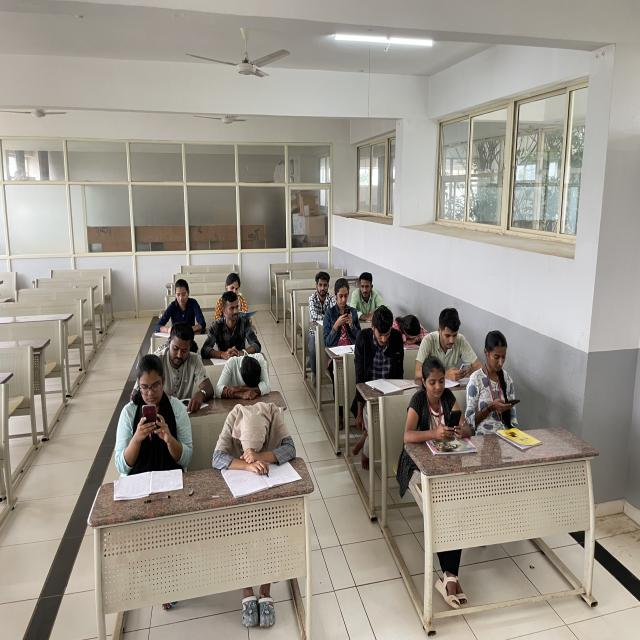Reading: (357, 304, 406, 388), (215, 269, 258, 315)
Sleeping: (212, 399, 303, 485), (217, 344, 276, 403), (395, 312, 430, 345)
Using Phone: (113, 354, 194, 482), (404, 356, 472, 444), (466, 331, 523, 424), (417, 307, 479, 377), (324, 276, 361, 338)
Writing: (155, 326, 213, 414), (159, 275, 207, 337)
